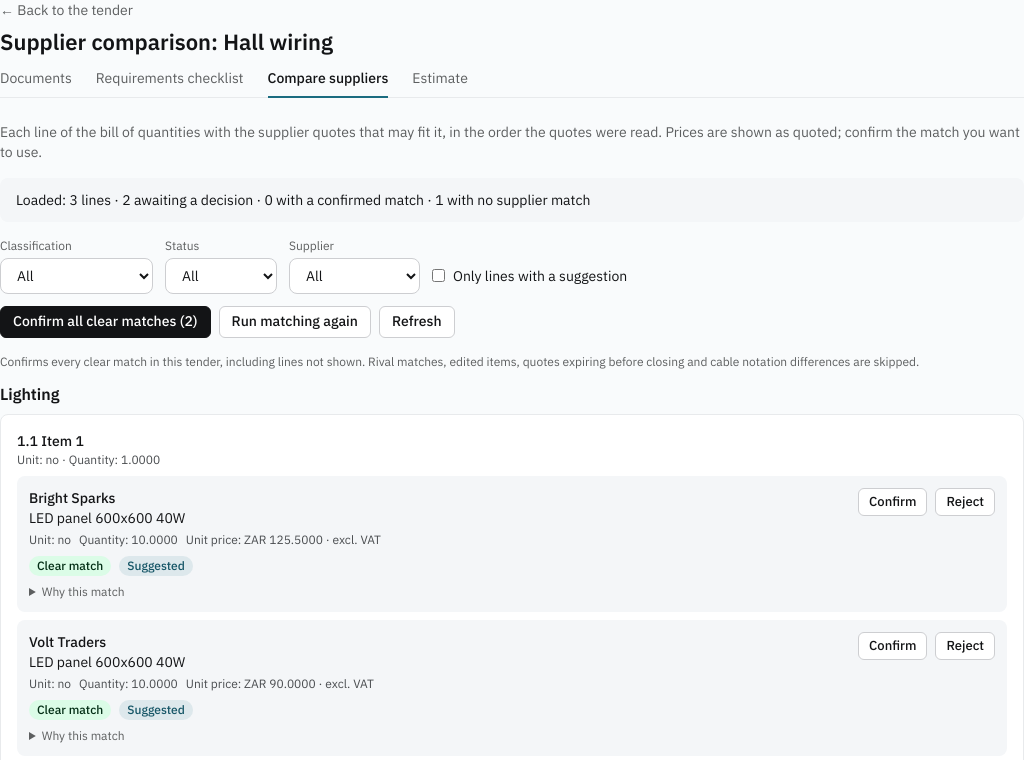
Test case: ComparisonView › shows a refusal from confirm-all
Click the button "Confirm all clear matches (2)" at point(105, 322), box [0,306,210,338]
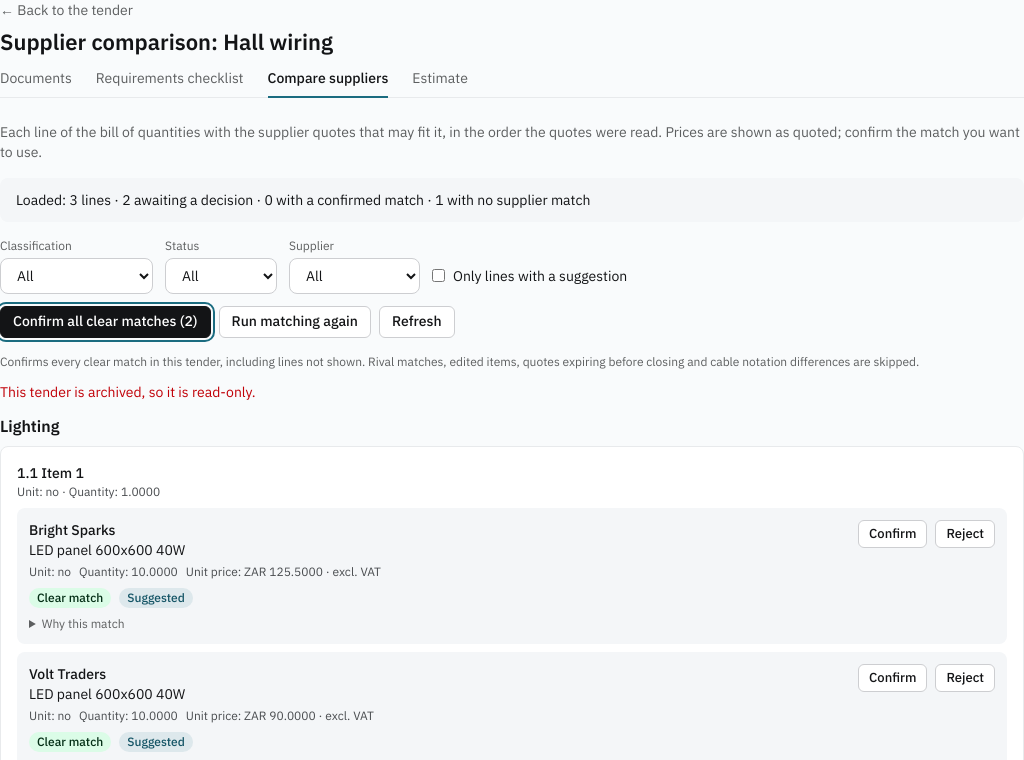
Expected: the text "This tender is archived, so it is read-only." is shown, [0,382,256,400]
